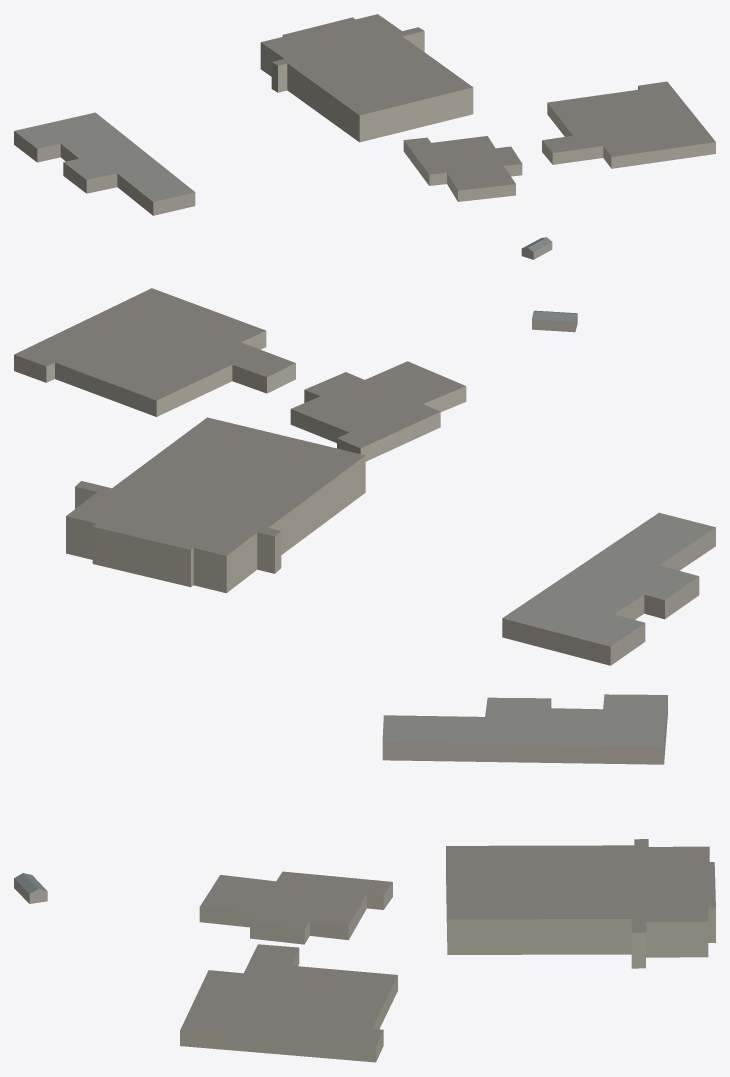
Rendered from be967334295c-chunk-1197_11838.glb.
3 renders of one model, top to bottom at view 1: azimuth 30°, elevation 25°; view 2: azimuth 150°, elevation 25°; view 3: azimuth 270°, elevation 25°, orthographic. The views are drawn at different scales.
Visible parts, largest first — view 1: building_127268, building_136452, building_9082, building_86046, building_123710; view 2: building_127268, building_136452, building_9082, building_86046, building_123710; view 3: building_127268, building_136452, building_9082, building_86046, building_123710.
Boxes of the visible parts, <box> form: building_127268: <box>260,14,473,142</box>; building_136452: <box>542,81,715,168</box>; building_9082: <box>14,112,195,215</box>; building_86046: <box>403,136,522,201</box>; building_123710: <box>521,237,552,259</box>; building_127268: <box>66,417,365,593</box>; building_136452: <box>14,288,295,416</box>; building_9082: <box>502,512,715,665</box>; building_86046: <box>290,361,466,461</box>; building_123710: <box>532,310,577,332</box>; building_127268: <box>446,839,715,968</box>; building_136452: <box>180,944,397,1062</box>; building_9082: <box>382,694,667,764</box>; building_86046: <box>199,871,392,944</box>; building_123710: <box>14,873,47,903</box>.
Size of the model in its own units: 287 by 13.64 by 244.
